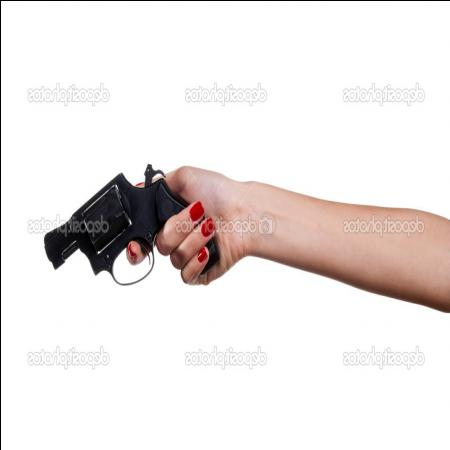Pistol: (46, 162, 220, 299)
